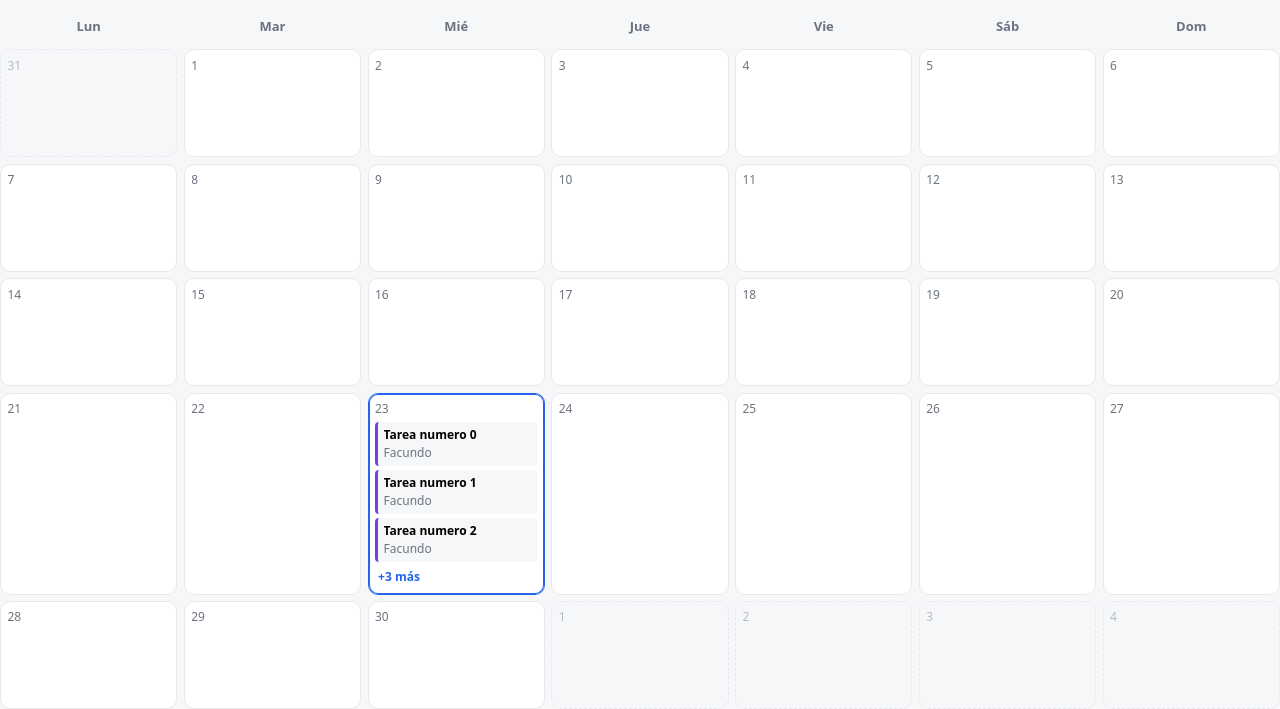
CalendarioPage › el "+N mas" abre el dia con TODAS las tareas
(page scrolled)
Click the button "+3 más" at (456,577), box [375,566,538,587]
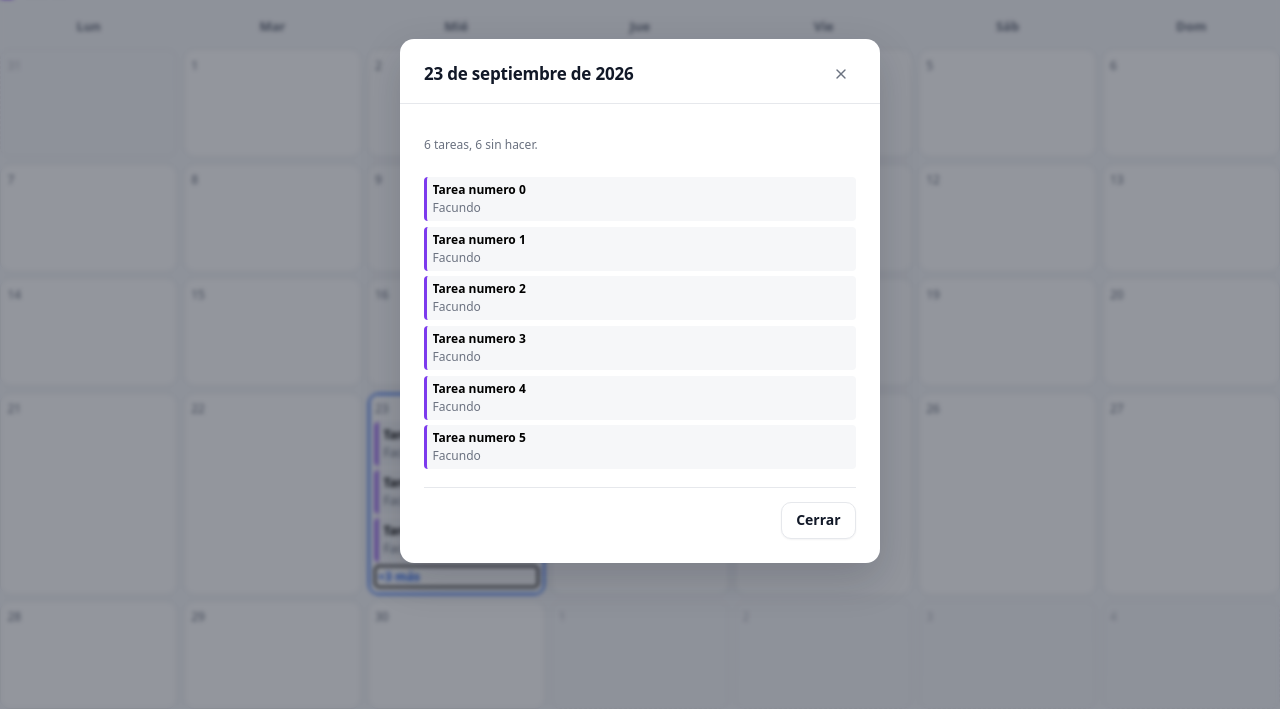
Now the text "Tarea numero 5" is shown, box [433,429,526,446]
Now the text "6 tareas, 6 sin hacer." is shown, box [424,136,538,153]
